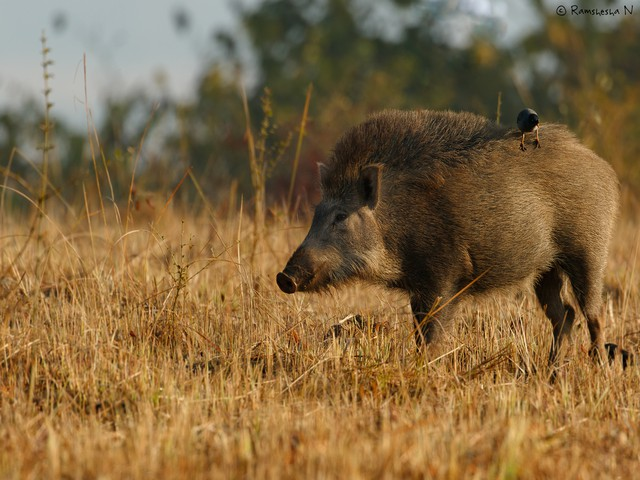Pig: (277, 129, 620, 368)
